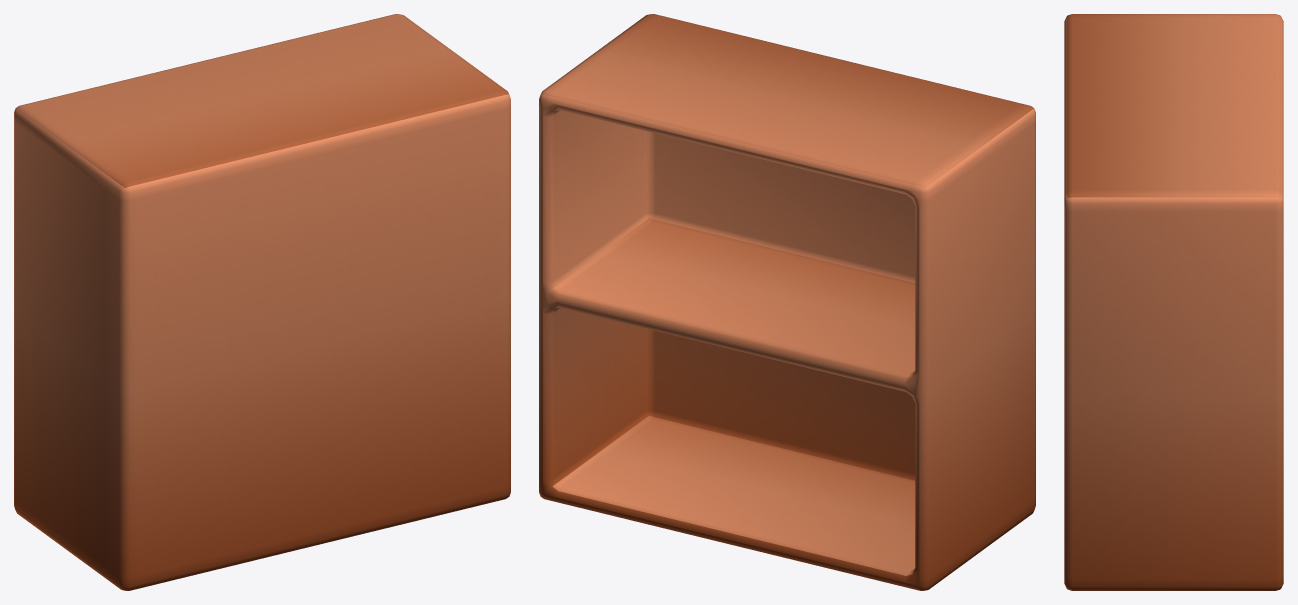
Rendered from Props_Bookshelf_03.fbx.
3 renders of one model, left to right at view 1: azimuth 30°, elevation 25°; view 2: azimuth 150°, elevation 25°; view 3: azimuth 270°, elevation 25°, orthographic. The views are drawn at different scales.
Visible parts, largest first — view 1: Props_Bookshelf_03; view 2: Props_Bookshelf_03; view 3: Props_Bookshelf_03.
Part boxes in pixels (left/top/right/bottom): Props_Bookshelf_03: left=14, top=14, right=510, bottom=590; Props_Bookshelf_03: left=539, top=14, right=1035, bottom=590; Props_Bookshelf_03: left=1064, top=14, right=1283, bottom=590.
Bounding box in the file's own units: 200 × 200 × 100.
